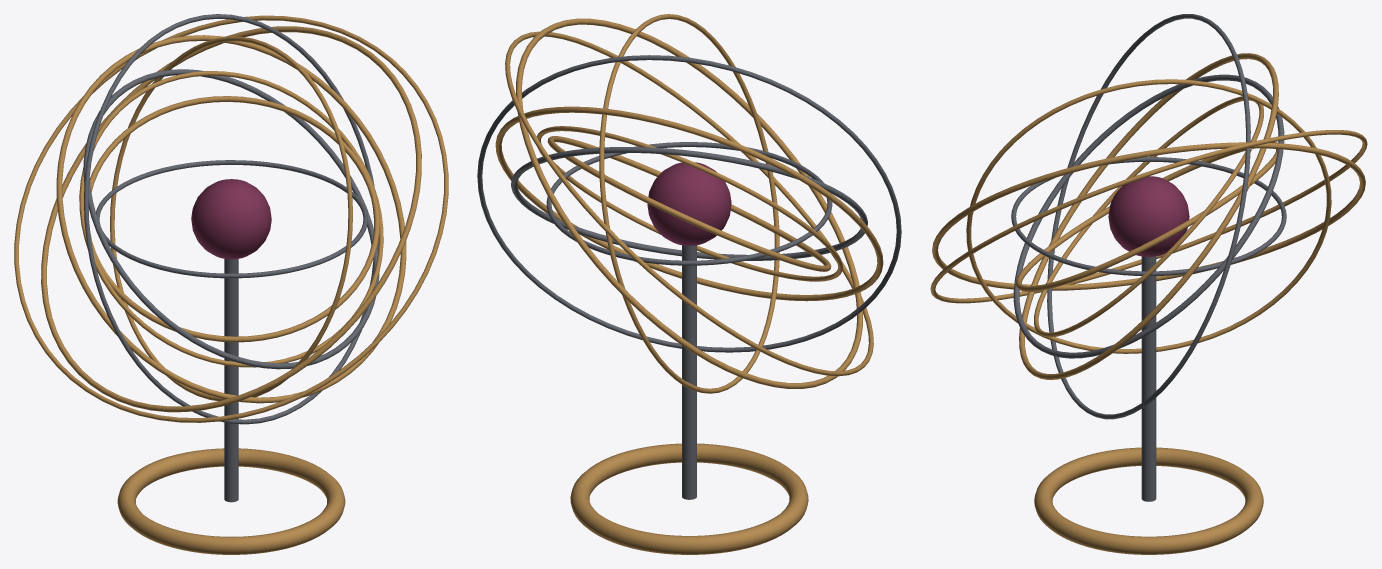
Rendered from armillary-main-v1.glb.
3 renders of one model, left to right at view 1: azimuth 30°, elevation 25°; view 2: azimuth 150°, elevation 25°; view 3: azimuth 270°, elevation 25°, orthographic. The views are drawn at different scales.
Visible parts, largest first — view 1: support_foot, scale_ring_building_pivot, scale_ring_battle_pivot, scale_ring_region_pivot, axis_cap, scale_ring_settlement_pivot, scale_ring_plane_pivot, scale_ring_planet_pivot, scale_ring_continent_pivot, scale_ring_system_pivot, scale_ring_cosmology_pivot, support_column; view 2: support_foot, scale_ring_building_pivot, scale_ring_settlement_pivot, scale_ring_region_pivot, scale_ring_battle_pivot, axis_cap, scale_ring_continent_pivot, scale_ring_planet_pivot, support_column, scale_ring_plane_pivot, scale_ring_system_pivot, scale_ring_cosmology_pivot; view 3: support_foot, scale_ring_building_pivot, scale_ring_region_pivot, scale_ring_continent_pivot, scale_ring_planet_pivot, scale_ring_settlement_pivot, axis_cap, scale_ring_battle_pivot, support_column, scale_ring_system_pivot, scale_ring_plane_pivot, scale_ring_cosmology_pivot.
Boxes of the visible parts, bbox=[...] form: support_foot: bbox=[117, 448, 345, 554]; scale_ring_building_pivot: bbox=[41, 26, 421, 412]; scale_ring_battle_pivot: bbox=[14, 15, 448, 422]; scale_ring_region_pivot: bbox=[56, 35, 406, 403]; axis_cap: bbox=[191, 179, 271, 259]; scale_ring_settlement_pivot: bbox=[84, 14, 378, 424]; scale_ring_plane_pivot: bbox=[88, 96, 379, 342]; scale_ring_planet_pivot: bbox=[83, 69, 379, 369]; scale_ring_continent_pivot: bbox=[110, 36, 352, 401]; scale_ring_system_pivot: bbox=[79, 71, 383, 367]; scale_ring_cosmology_pivot: bbox=[96, 160, 367, 278]; support_column: bbox=[224, 259, 238, 502]; support_foot: bbox=[570, 443, 808, 554]; scale_ring_building_pivot: bbox=[516, 18, 862, 388]; scale_ring_settlement_pivot: bbox=[477, 55, 901, 352]; scale_ring_region_pivot: bbox=[495, 106, 883, 301]; scale_ring_battle_pivot: bbox=[505, 31, 873, 376]; axis_cap: bbox=[647, 162, 731, 245]; scale_ring_continent_pivot: bbox=[599, 14, 779, 393]; scale_ring_planet_pivot: bbox=[511, 147, 867, 260]; support_column: bbox=[682, 245, 696, 499]; scale_ring_plane_pivot: bbox=[547, 136, 831, 271]; scale_ring_system_pivot: bbox=[536, 126, 842, 281]; scale_ring_cosmology_pivot: bbox=[546, 142, 832, 265]; support_foot: bbox=[1034, 447, 1263, 554]; scale_ring_building_pivot: bbox=[932, 142, 1365, 290]; scale_ring_region_pivot: bbox=[1019, 53, 1278, 379]; scale_ring_continent_pivot: bbox=[966, 79, 1331, 353]; scale_ring_planet_pivot: bbox=[1013, 74, 1284, 358]; scale_ring_settlement_pivot: bbox=[1047, 14, 1250, 419]; axis_cap: bbox=[1108, 176, 1189, 256]; scale_ring_battle_pivot: bbox=[930, 130, 1367, 303]; support_column: bbox=[1141, 256, 1156, 501]; scale_ring_system_pivot: bbox=[1034, 96, 1263, 337]; scale_ring_plane_pivot: bbox=[1016, 142, 1277, 292]; scale_ring_cosmology_pivot: bbox=[1011, 157, 1286, 276].
Bounding box in the file's own units: 1.46 × 1.9 × 1.61.
